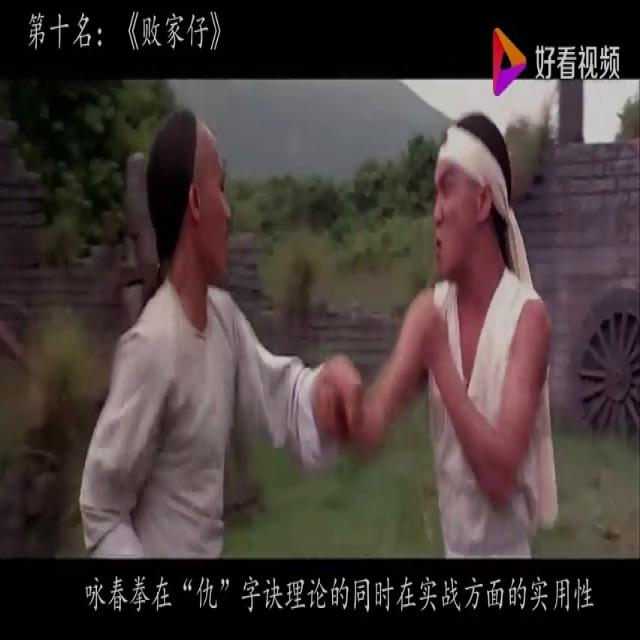fight: (79, 112, 555, 561)
